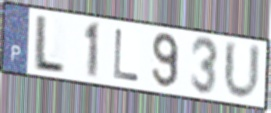1: (83, 20, 104, 82)
3: (189, 33, 220, 100)
9: (150, 31, 181, 91)
L: (30, 13, 67, 76), (111, 26, 141, 84)
U: (222, 38, 263, 103)
